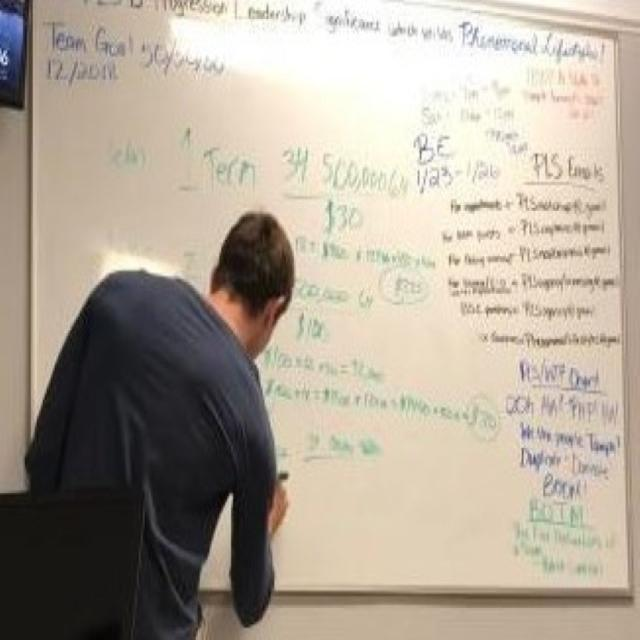Instructor: (60, 165, 306, 640)
White-board: (30, 0, 631, 596)
